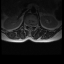CCS_normal: (29, 23, 31, 29)
LFS_normal: (33, 23, 35, 27)
LLS_stenosis: (31, 23, 33, 29)
RFS_normal: (26, 23, 28, 27)
RLS_normal: (28, 23, 29, 28)
